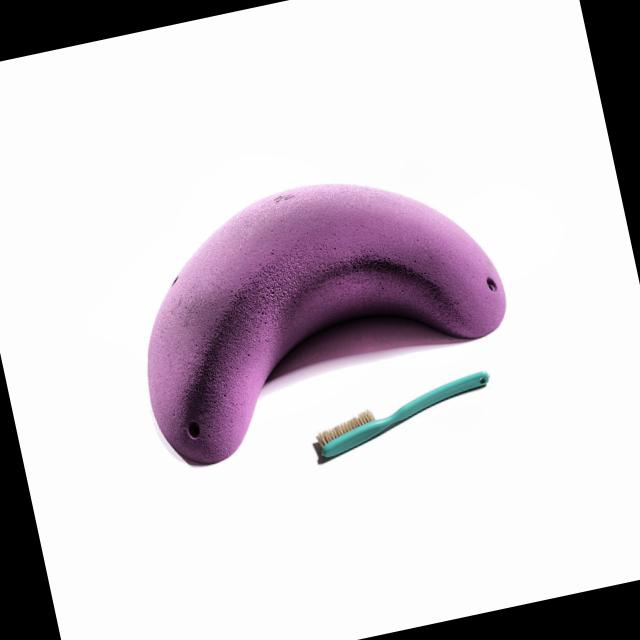Hold: (115, 150, 522, 467)
